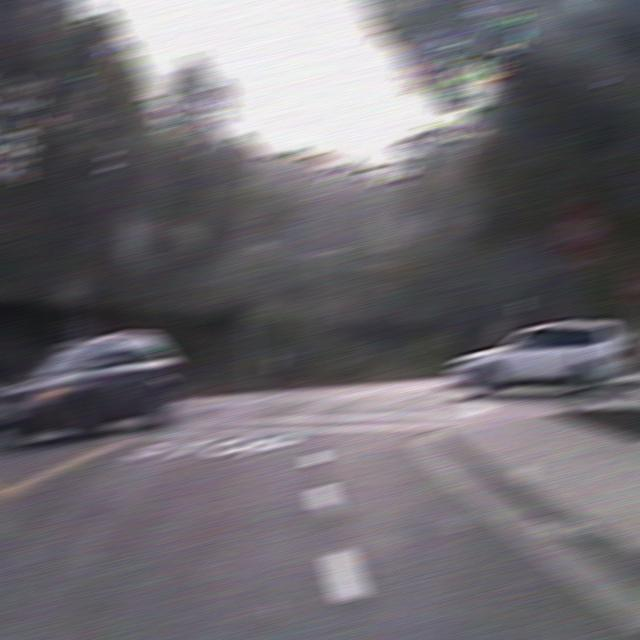stop: (548, 197, 606, 267)
